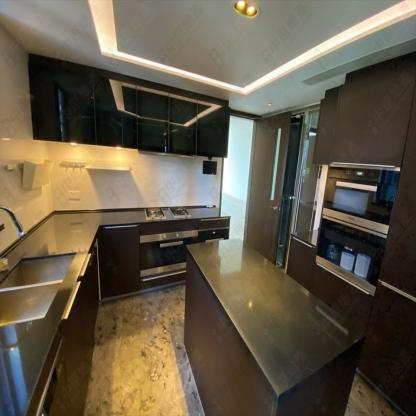Cupboard: (29, 53, 231, 156)
Exhaust Hood: (138, 150, 195, 158)
Faucet: (0, 202, 26, 239)
Oven: (315, 164, 399, 294), (140, 229, 199, 282)
Sink: (0, 252, 77, 325)
Stove: (144, 206, 166, 221), (168, 206, 191, 219)
